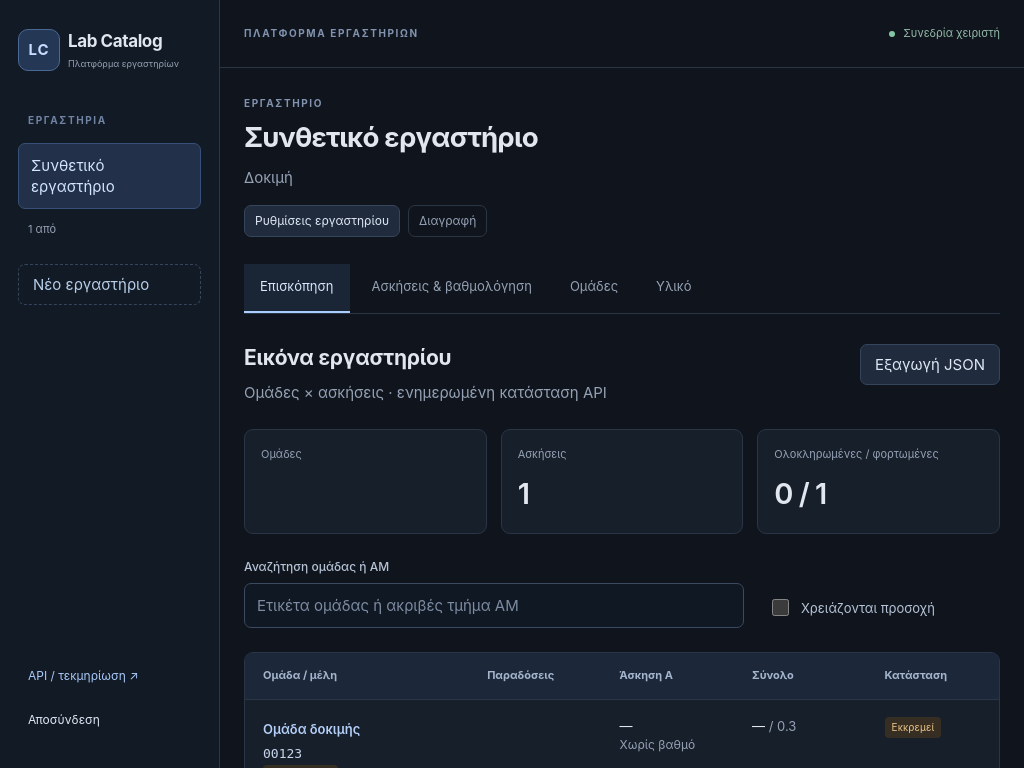
Test case: keeps conflicting lab edits and offers server comparison without silent overwrite
This screenshot has width=1024, height=768.
Click the button "Ρυθμίσεις εργαστηρίου" at [322, 221], box [244,205,400,237]
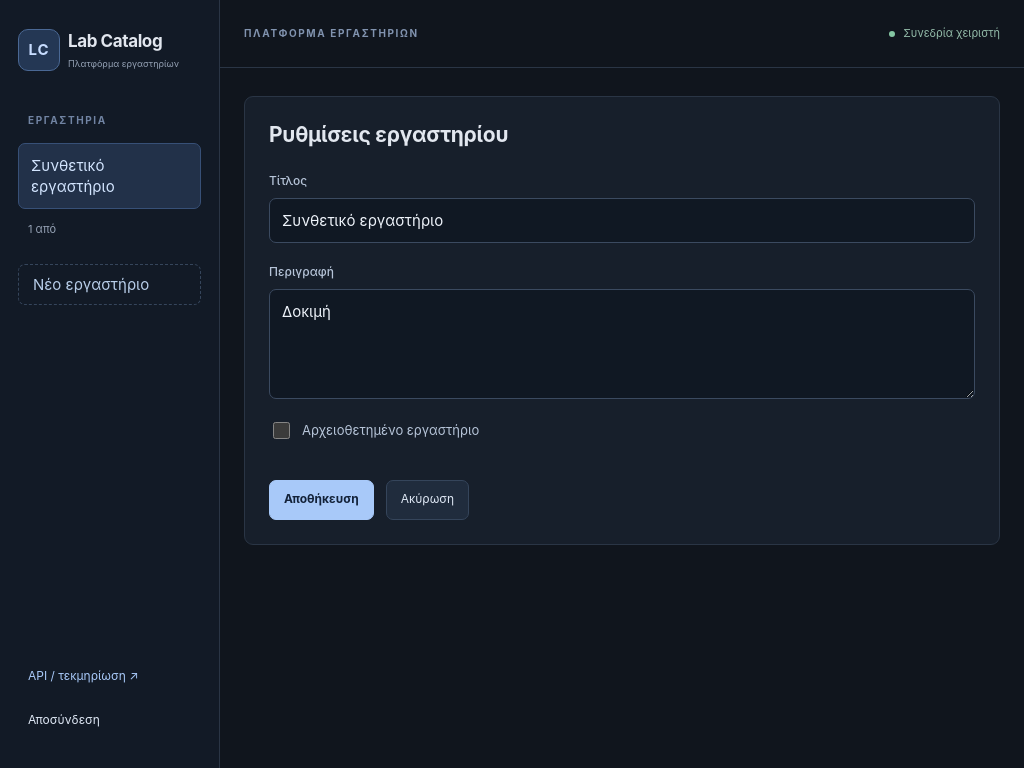
Replace the text in the field labelled "Τίτλος" with "Μη αποθηκευμένο" at [622, 221], box [269,198,975,243]
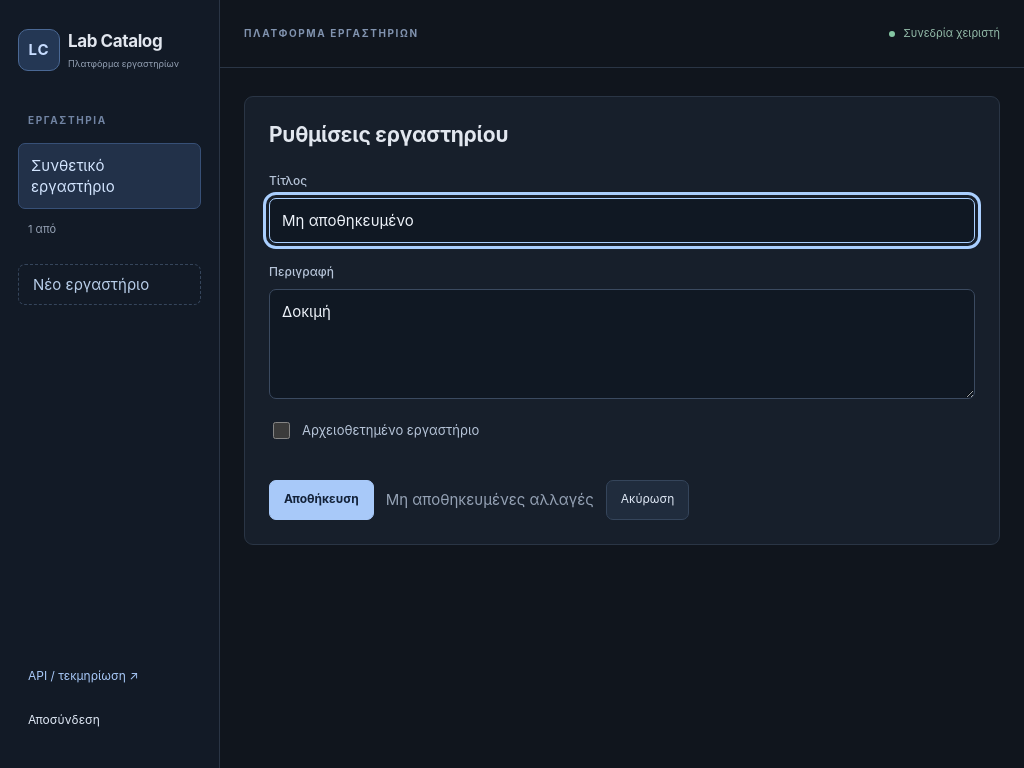
Click the button "Αποθήκευση" at [321, 500], box [269,480,374,520]
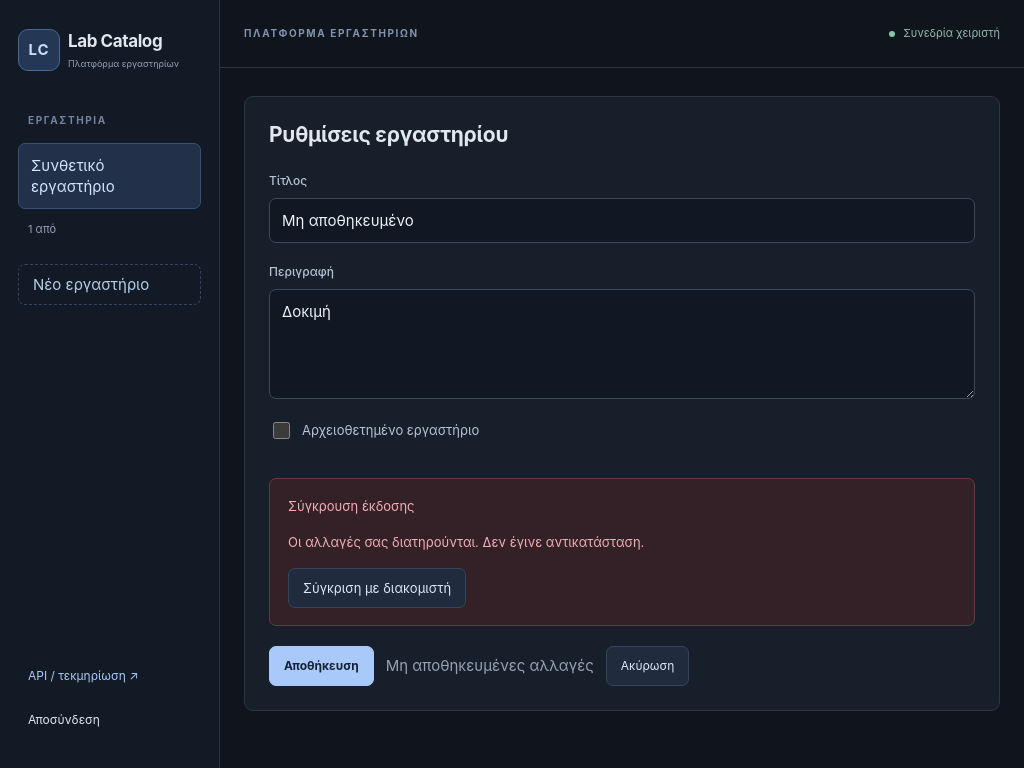
Result: the text "Σύγκρουση έκδοσης" is shown at [288,498,414,514]
Click the button "Σύγκριση με διακομιστή" at [377, 588], box [288,568,466,608]
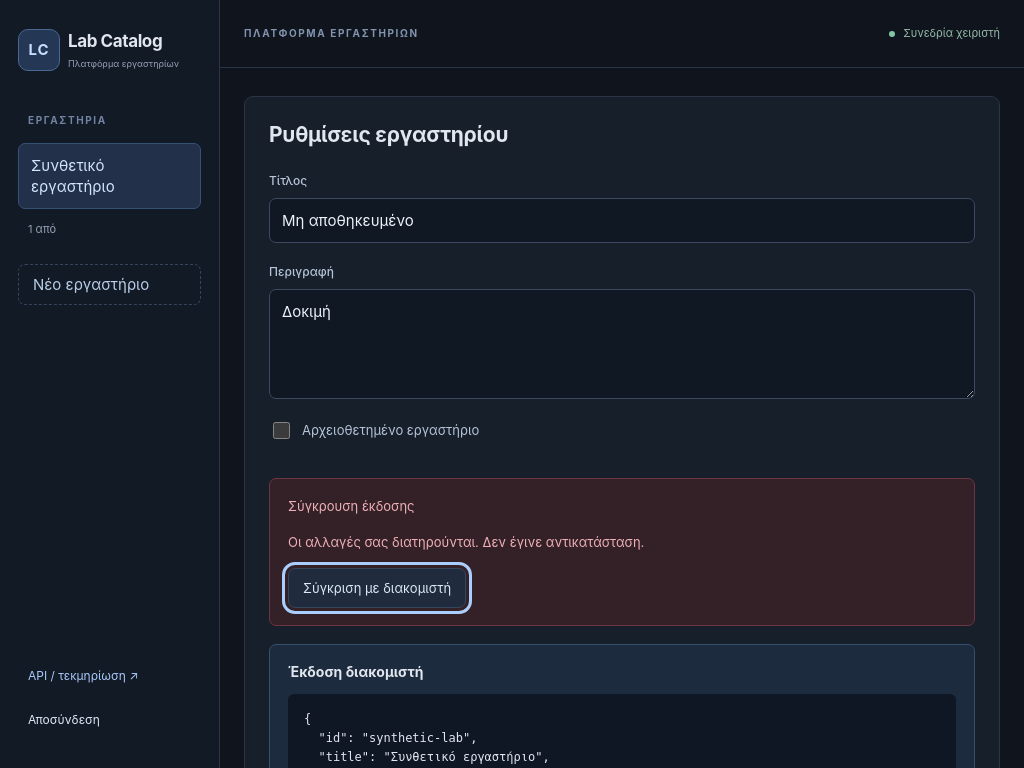
Result: the heading "Έκδοση διακομιστή" is shown at [288,663,423,680]
